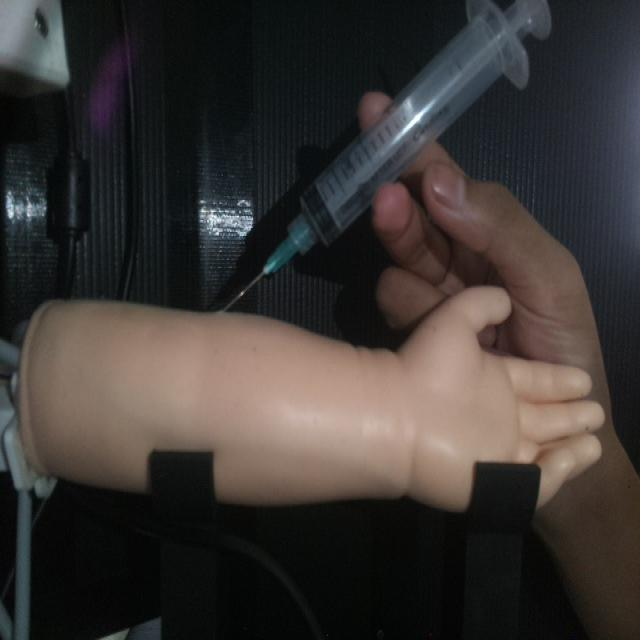Outside: (215, 0, 553, 313)
